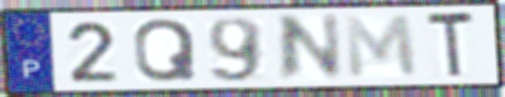2: (64, 19, 123, 85)
9: (206, 15, 270, 83)
M: (341, 12, 421, 81)
N: (275, 11, 346, 84)
Q: (132, 16, 200, 85)
T: (423, 9, 478, 82)
